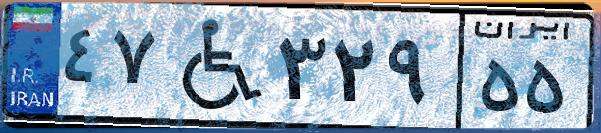2: (330, 28, 385, 110)
3: (270, 28, 330, 110)
4: (57, 26, 110, 100)
5: (475, 38, 525, 113), (525, 38, 570, 115)
7: (110, 28, 158, 98)
9: (385, 28, 445, 110)
ژ (معلولین و جانبازان): (158, 12, 270, 120)
